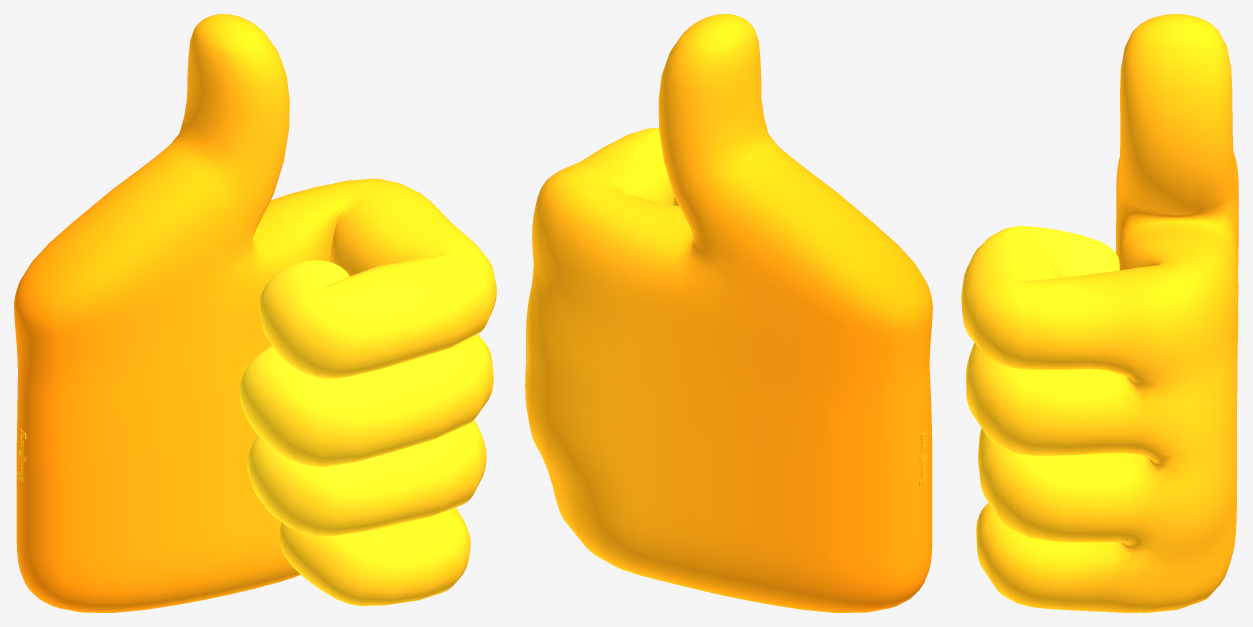
The model's file is thumbs_up.gltf.
3 views of the same model, side by side, from view 1: azimuth 30°, elevation 25°; view 2: azimuth 150°, elevation 25°; view 3: azimuth 270°, elevation 25° (orthographic). The views are drawn at different scales.
Visible parts, largest first — view 1: Cube.099; view 2: Cube.099; view 3: Cube.099.
Boxes of the visible parts, x1=… form: Cube.099: x1=14, y1=14, x2=496, y2=612; Cube.099: x1=525, y1=14, x2=932, y2=612; Cube.099: x1=961, y1=14, x2=1238, y2=612.
Size of the model in its own units: 1.26 by 1.7 by 0.7841.
Materials: 2 (2 with a texture image).
